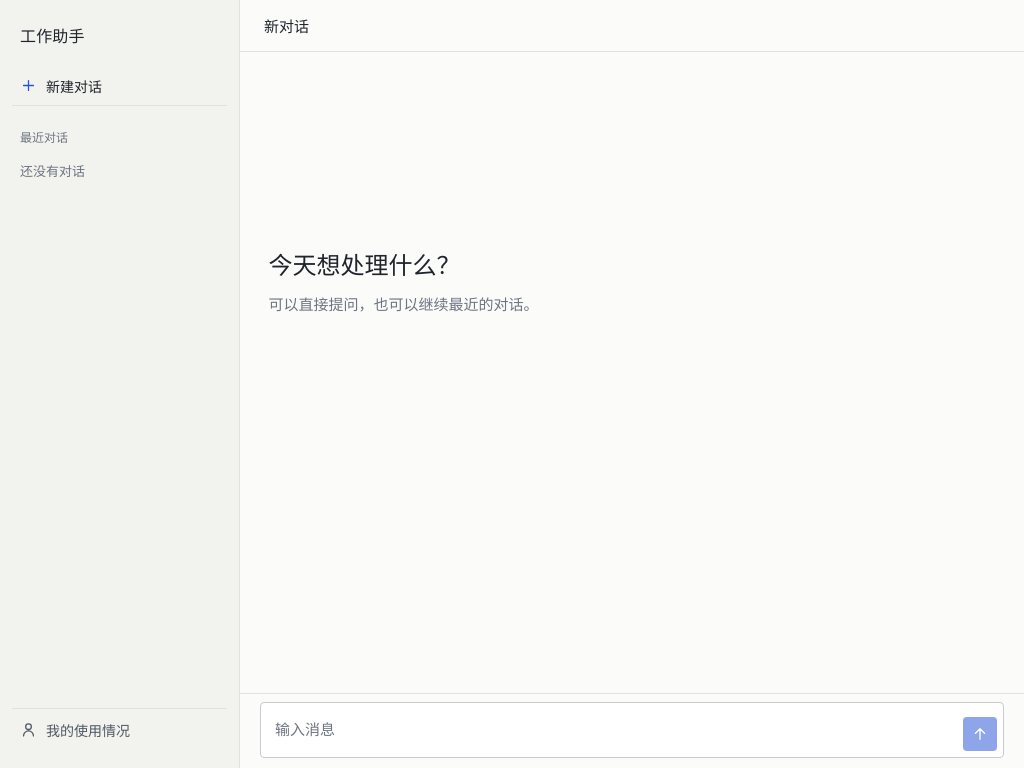
Test: employee chat vertical slice › connects SSE before the first snapshot resolves and renders deduplicated product events
Expected: the heading "今天想处理什么？" is shown, [268, 250, 460, 282]
Type "请查询当前上海时间，并说明结果来自哪里。" into the text box labelled "输入消息" at (615, 730), box [275, 709, 955, 751]
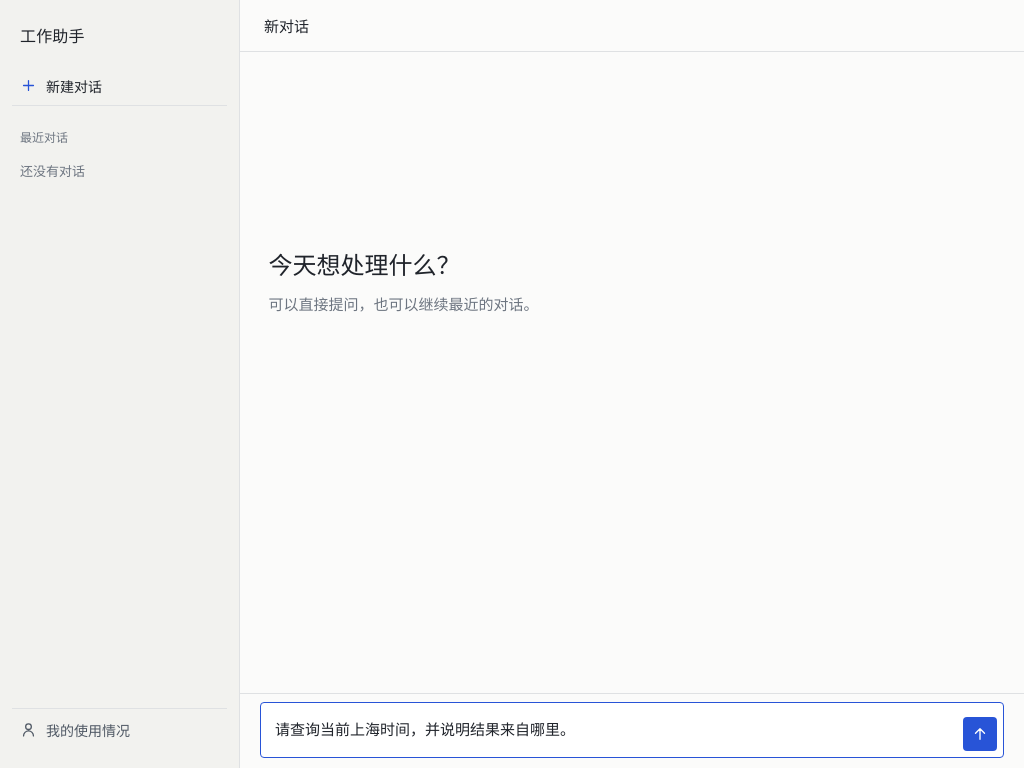
Click the button named "发送消息" at (980, 734), box [963, 717, 997, 751]
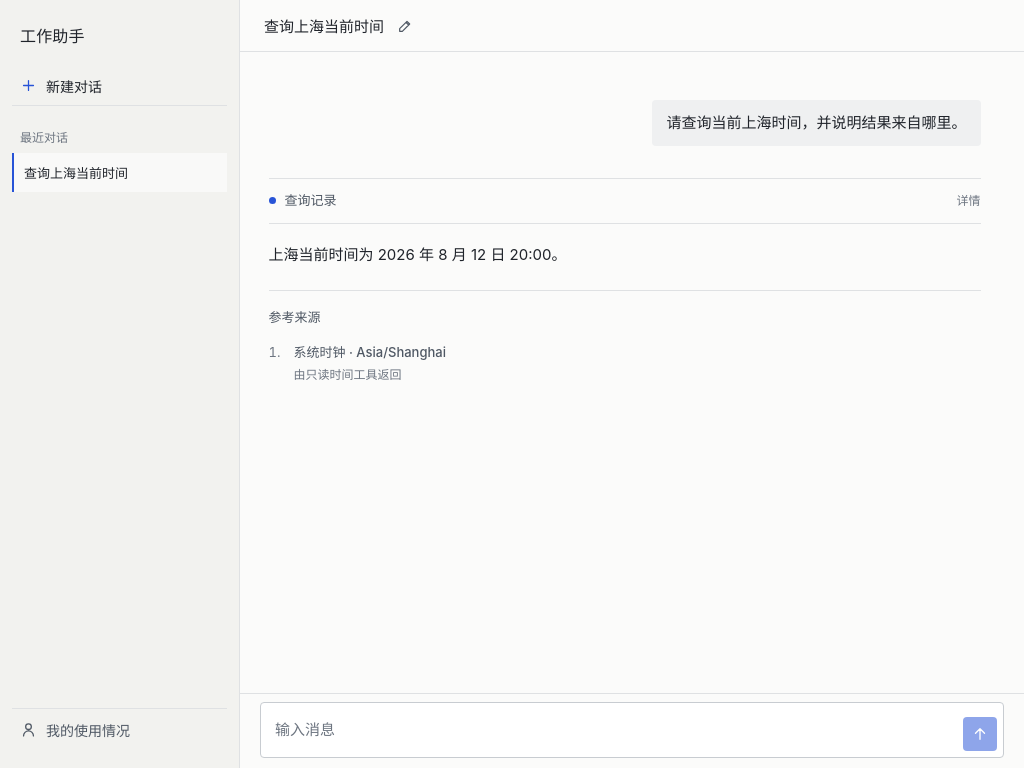
Now the text "系统时钟 · Asia/Shanghai" is shown, box [294, 344, 446, 360]
Now the text "上海当前时间为 2026 年 8 月 12 日 20:00。" is shown, box [268, 244, 566, 264]
